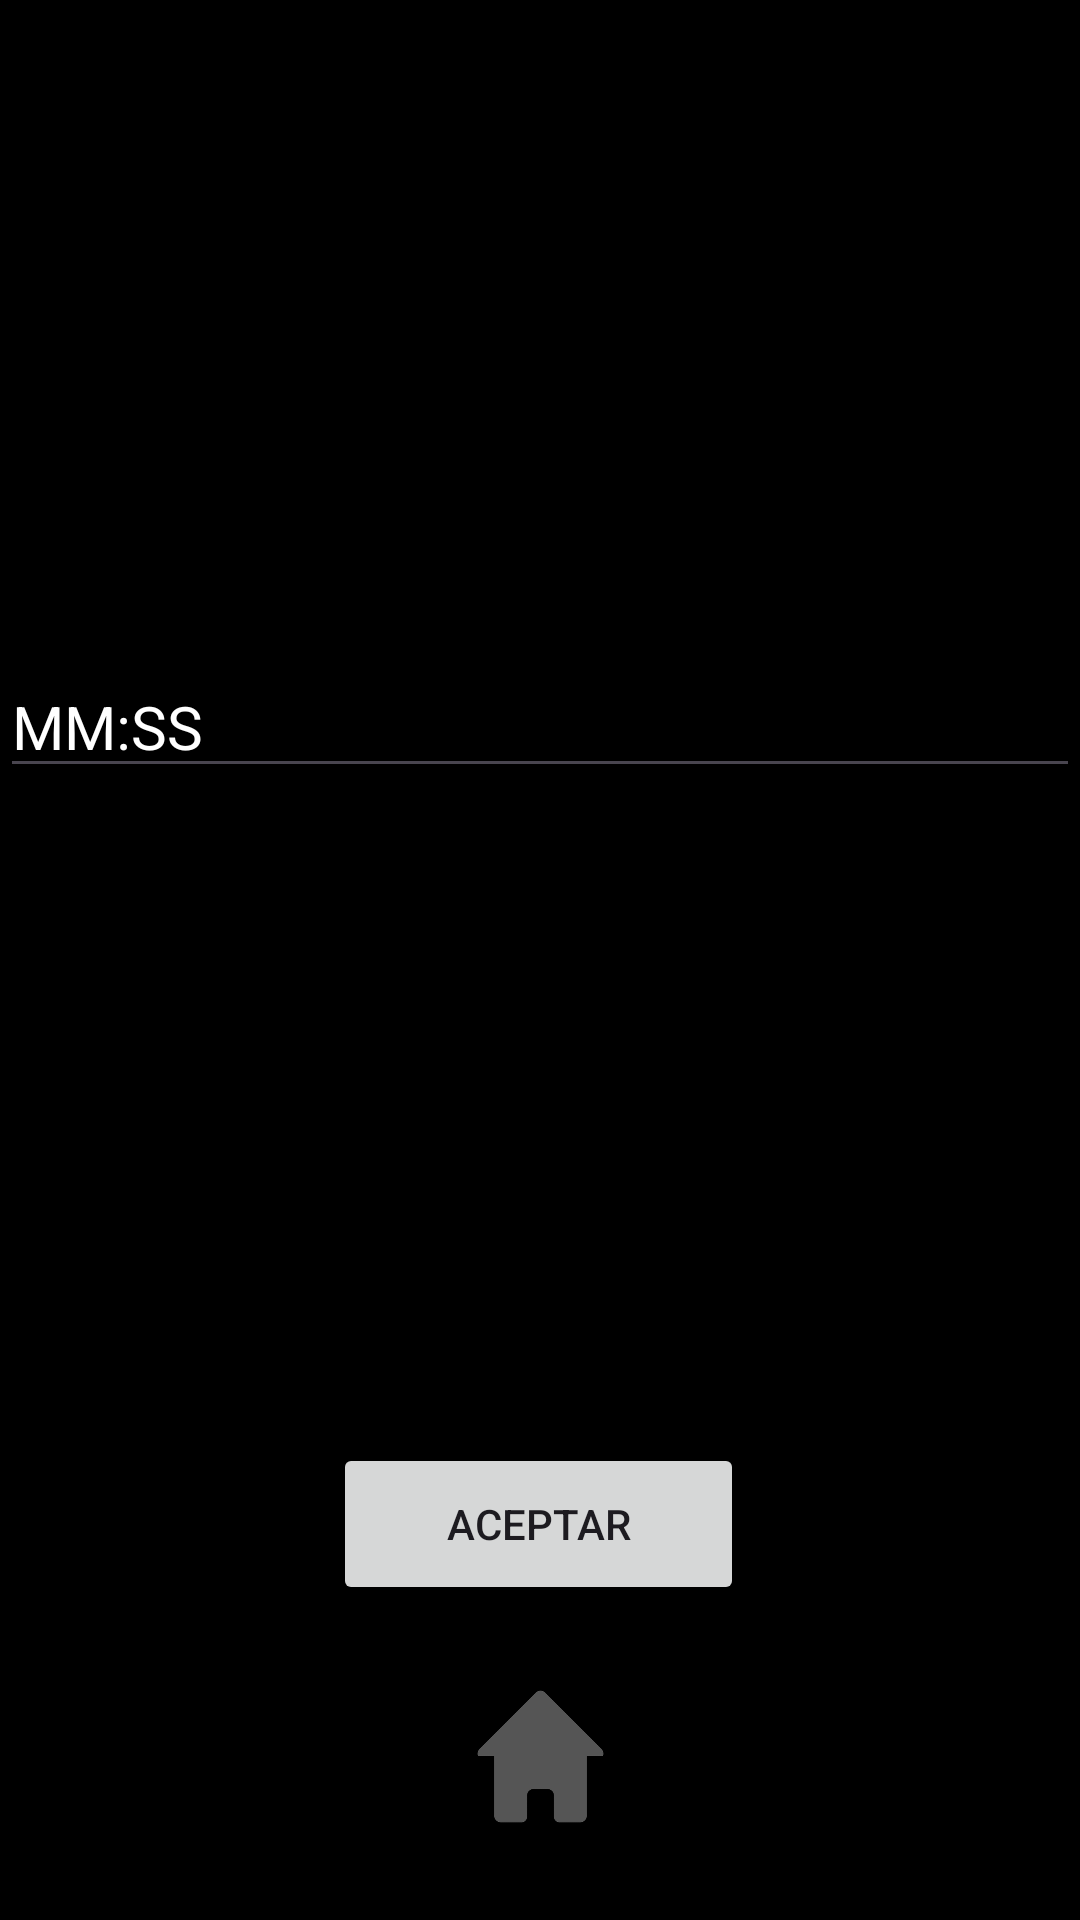

Icon bounding boxes for this 1080 x 1920 phone screenshot, format (x1, y1, x2, y2):
casa: (477, 1690, 604, 1823)
